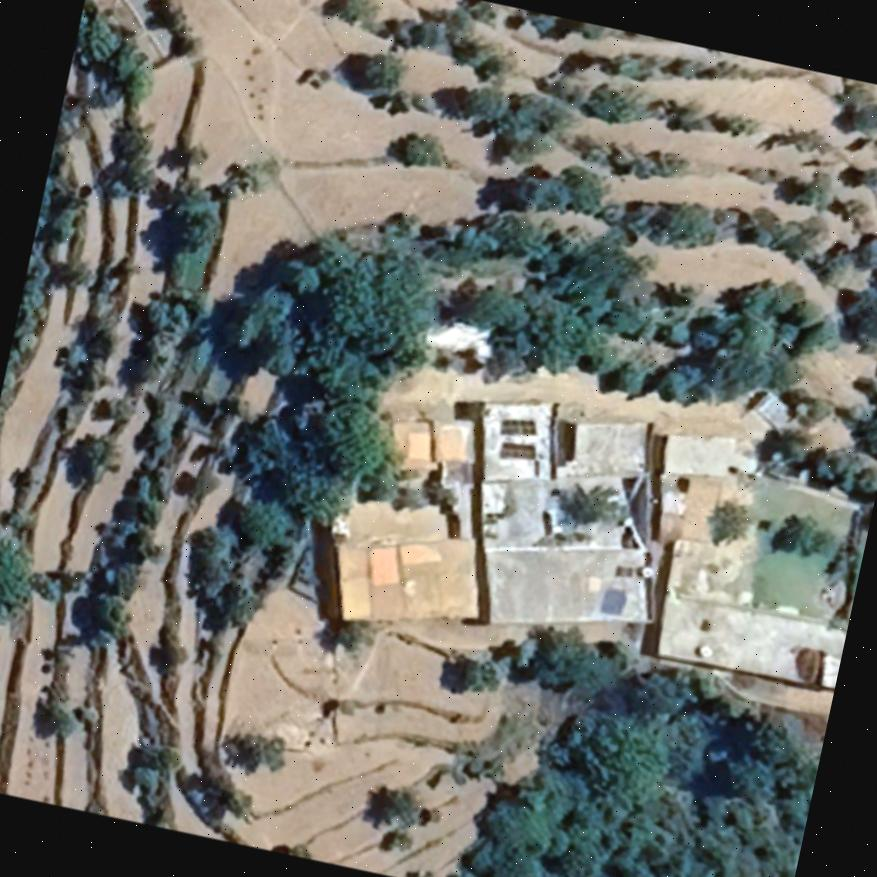Solarpanel: (495, 437, 538, 462), (493, 413, 538, 435)
